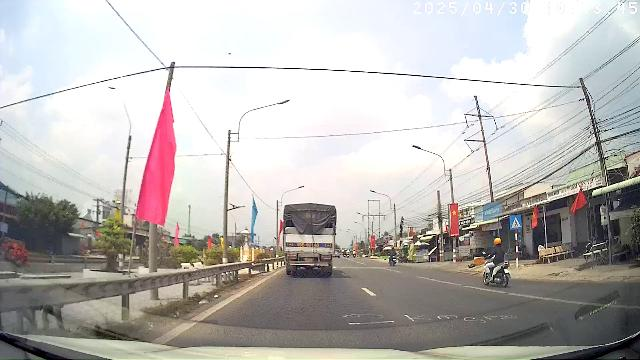423a-duong-nguoi-di-bo-sang-ngang-1: (510, 215, 522, 229)
